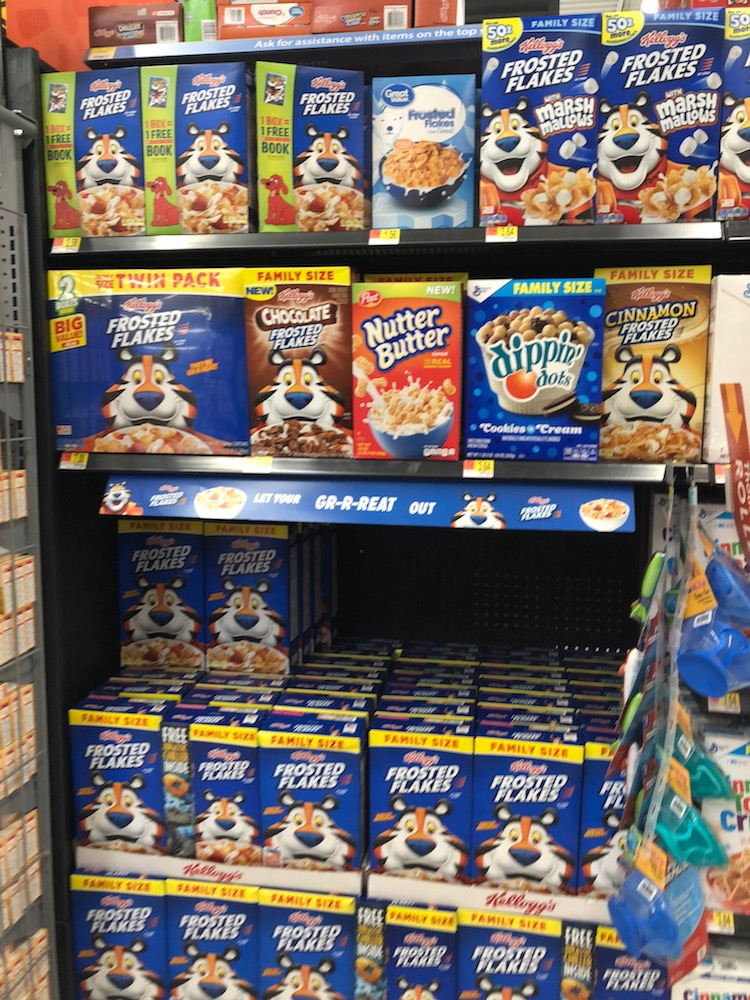Dippin Dots Cookies & Cream -568929378: (466, 292, 592, 454)
Nutter Butter-565717511: (352, 298, 465, 460)
